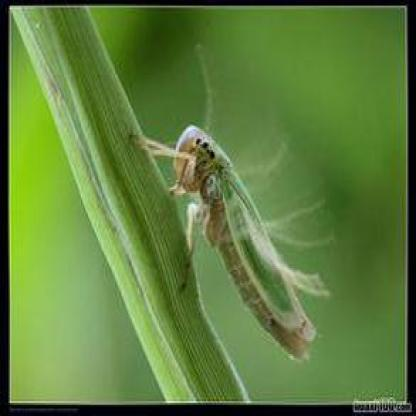green-leafhopper: (171, 120, 322, 365)
